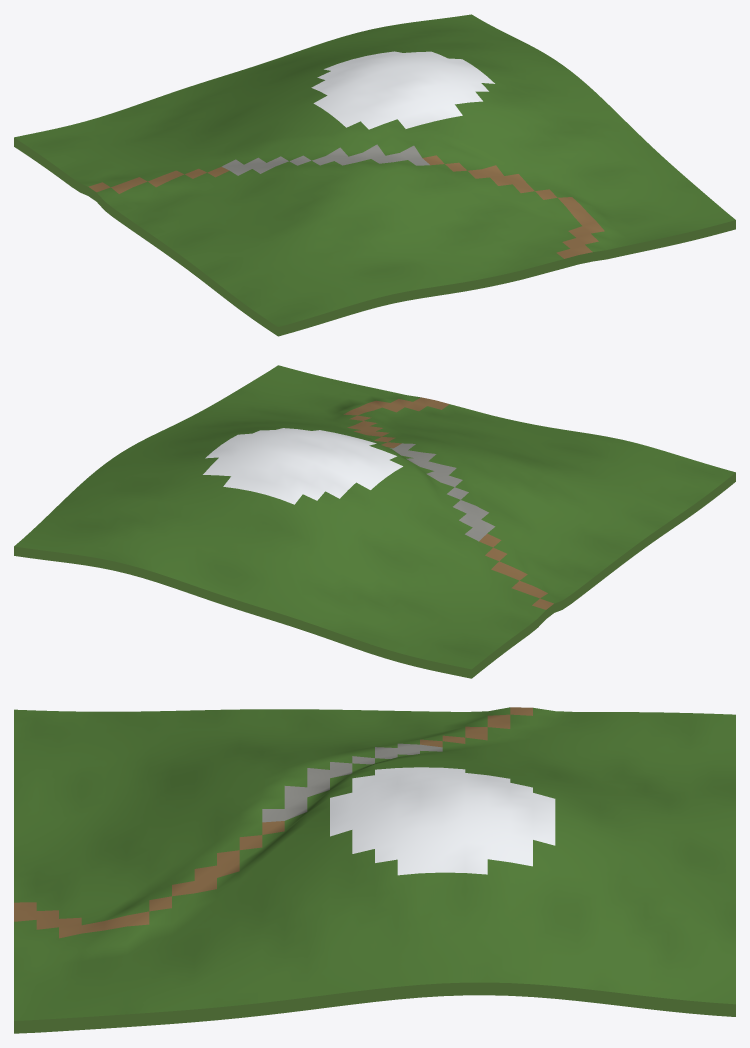
File: chunk_1_0_lod1.glb
3 views of the same model, one above another, from view 1: azimuth 30°, elevation 25°; view 2: azimuth 150°, elevation 25°; view 3: azimuth 270°, elevation 25° (orthographic). The views are drawn at different scales.
Visible parts, largest first — view 1: Surface_Grass, Surface_Snow, Skirt, Surface_Dirt, Surface_Gravel; view 2: Surface_Grass, Surface_Snow, Skirt, Surface_Dirt, Surface_Gravel; view 3: Surface_Grass, Surface_Snow, Skirt, Surface_Dirt, Surface_Gravel.
Boxes of the visible parts, x1=… form: Surface_Grass: x1=14, y1=14, x2=735, y2=326; Surface_Snow: x1=311, y1=51, x2=494, y2=129; Skirt: x1=14, y1=137, x2=735, y2=336; Surface_Dirt: x1=88, y1=155, x2=604, y2=258; Surface_Gravel: x1=222, y1=144, x2=429, y2=175; Surface_Grass: x1=14, y1=365, x2=735, y2=669; Surface_Snow: x1=203, y1=428, x2=402, y2=504; Skirt: x1=14, y1=472, x2=735, y2=678; Surface_Dirt: x1=343, y1=397, x2=553, y2=609; Surface_Gravel: x1=390, y1=443, x2=495, y2=541; Surface_Grass: x1=14, y1=707, x2=735, y2=1020; Surface_Snow: x1=330, y1=767, x2=555, y2=875; Skirt: x1=14, y1=982, x2=735, y2=1033; Surface_Dirt: x1=14, y1=707, x2=532, y2=938; Surface_Gravel: x1=262, y1=743, x2=442, y2=822.
Size of the model in its own units: 256 by 45.35 by 256.
